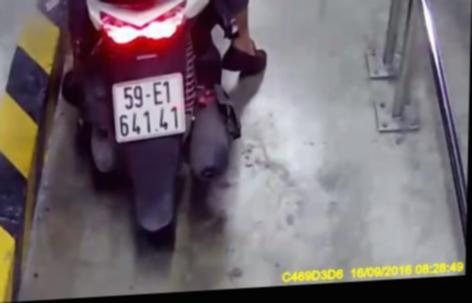License_Plate: (107, 75, 191, 142)
